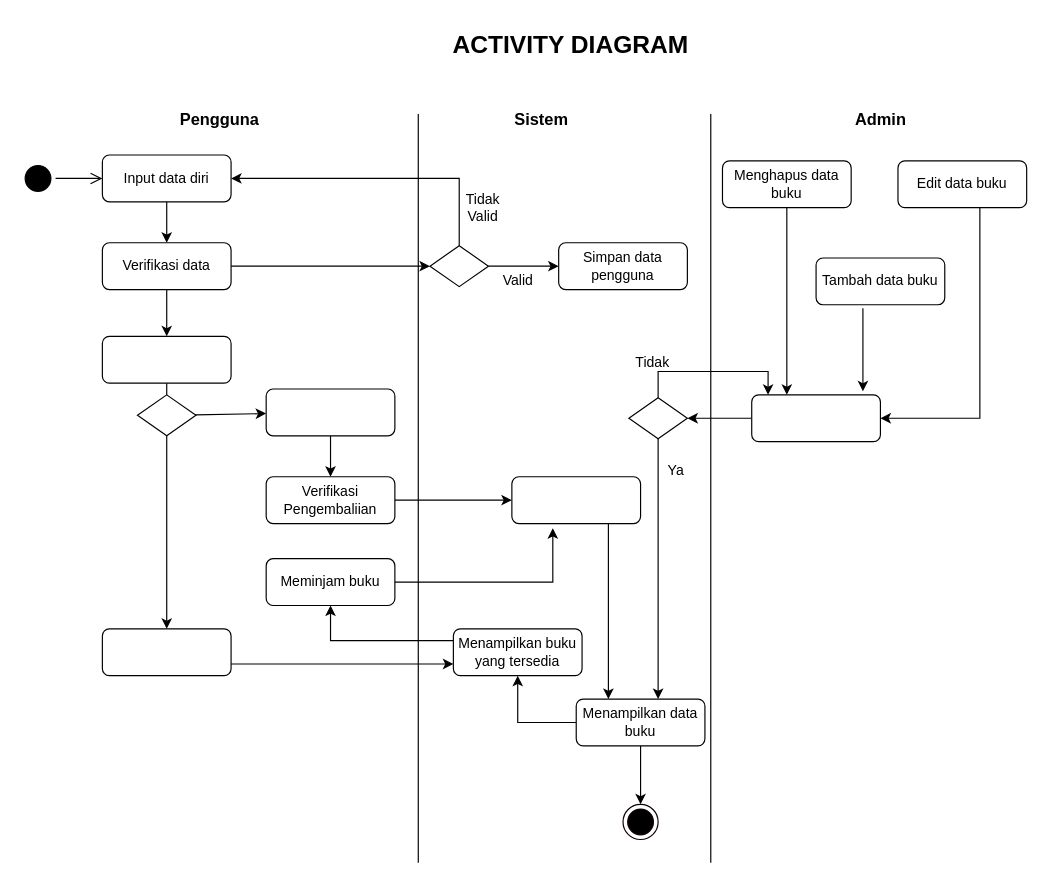
Some shapes in this 1047 by 885 pixel diagram are drawn without their labels. The centre of each missing label's shape, as x and y in pixels:
Login akun: point 166,359
memasukan data: point 815,418
Menampilkan Transaksi: point 576,500
Pilih kembalikan buku: point 330,412
Pilih pinjam buku: point 166,652
